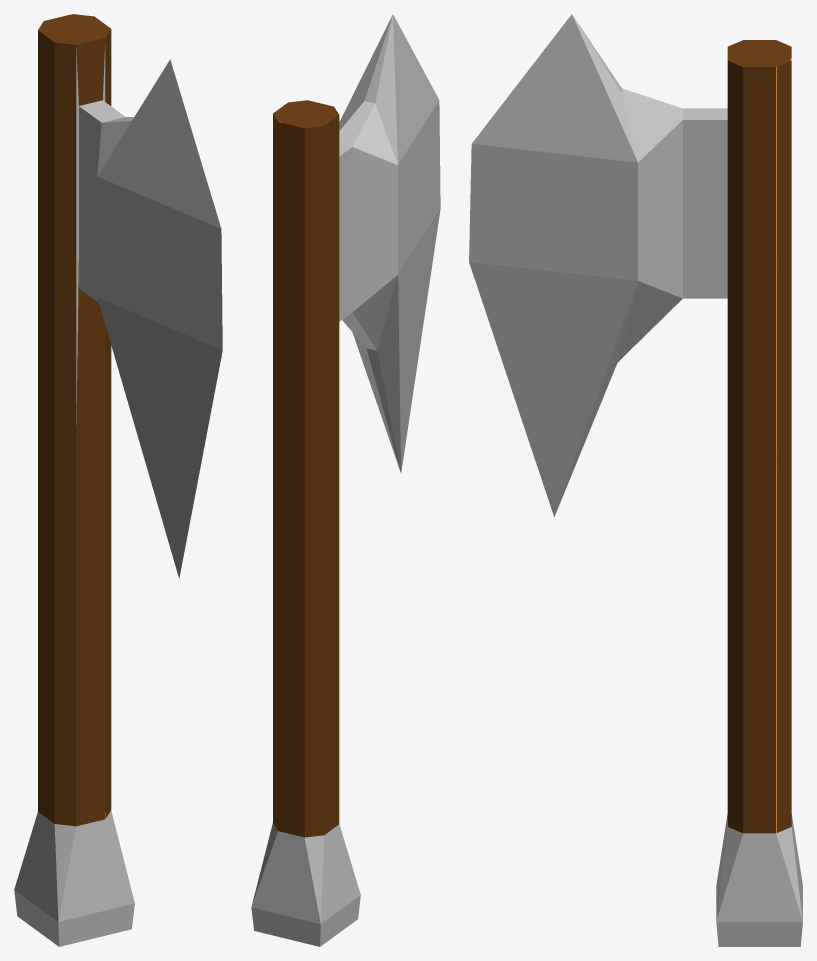
File: Axe.mtl.obj
The picture shows the model from 3 angles, left to right: view 1: azimuth 30°, elevation 25°; view 2: azimuth 150°, elevation 25°; view 3: azimuth 270°, elevation 25°; orthographic projection. The views are drawn at different scales.
Parts seen in each view (by area): view 1: Cube; view 2: Cube; view 3: Cube.
Part boxes in pixels (x1,y1,x2,y2): Cube: (14,14,222,946); Cube: (251,14,440,946); Cube: (469,14,802,946).
Bounding box in the file's own units: 0.1659 × 1.88 × 0.623.
